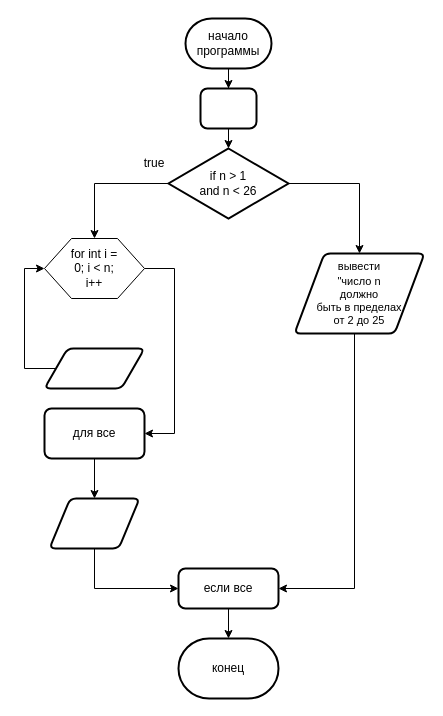
This 443x716 diagram has some shape labels left out. Each missing label, with the box of its shape:
int n;: (199, 87, 257, 129)
вывести A + i: (43, 347, 145, 389)
вывести новую строку: (48, 497, 140, 549)
